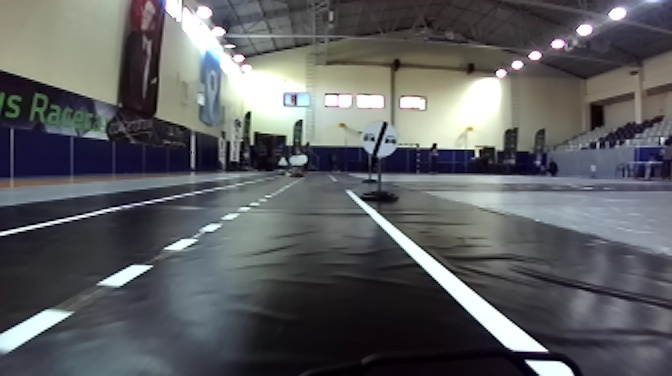sollama_serbest: (359, 120, 397, 157)
